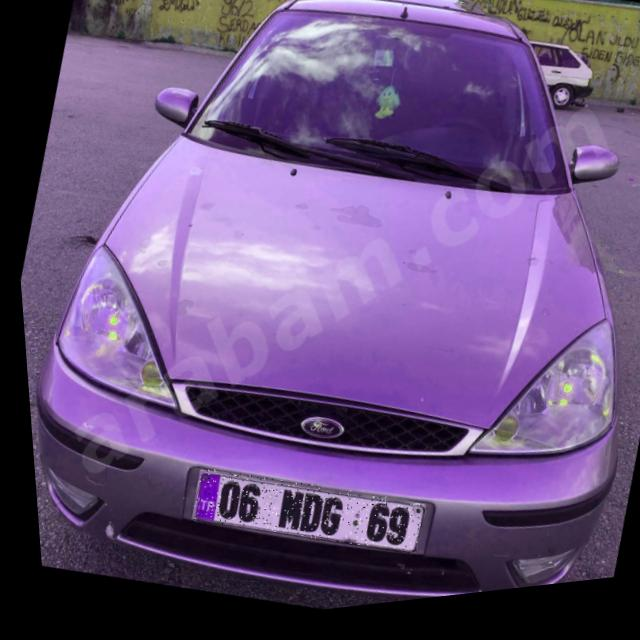license_plate: (180, 452, 419, 581)
